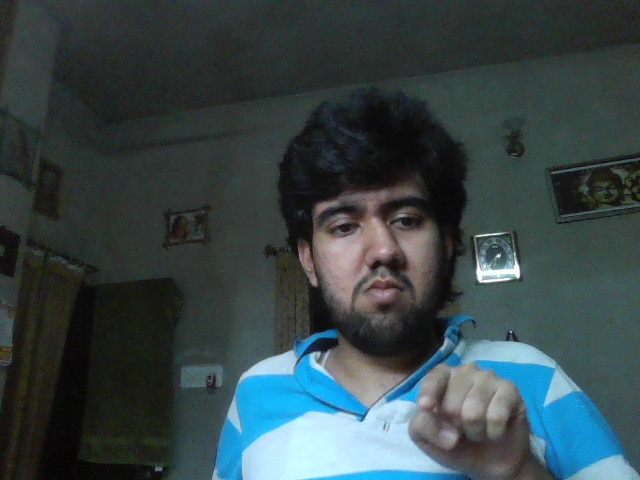You: (409, 363, 529, 480)
